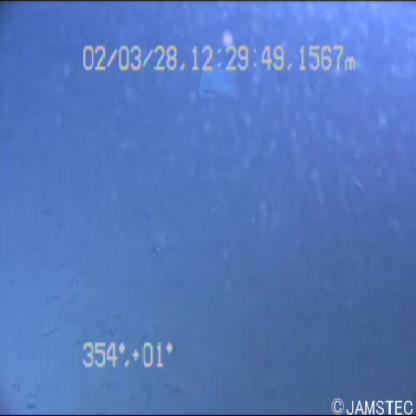Rác: (189, 59, 241, 105)
